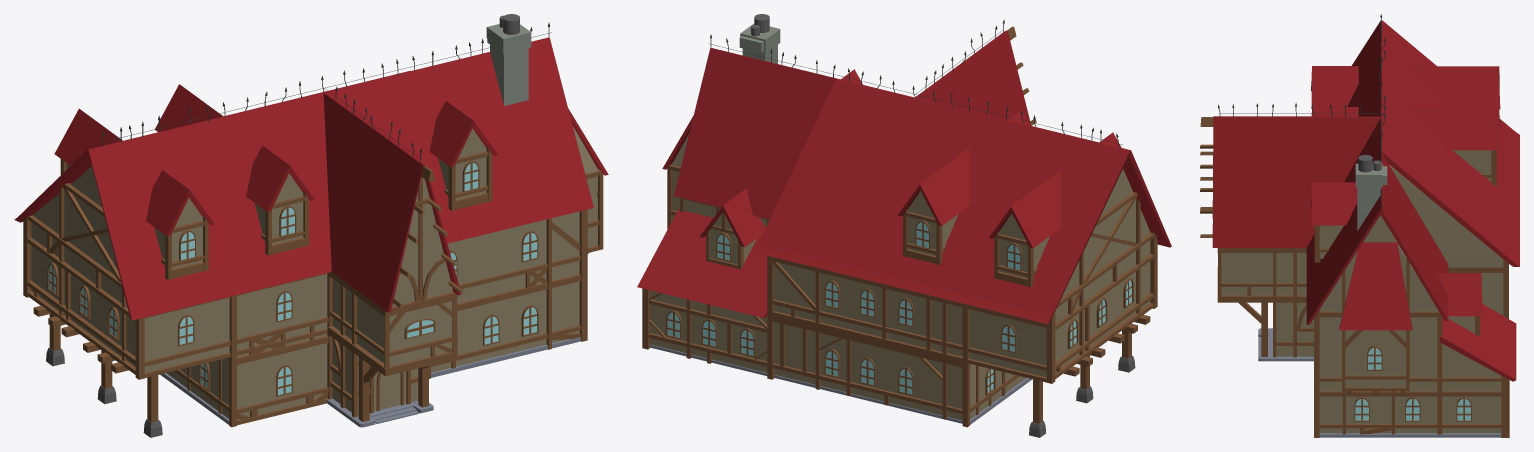
File: Building 3.fbx
The picture shows the model from 3 angles, left to right: view 1: azimuth 30°, elevation 25°; view 2: azimuth 150°, elevation 25°; view 3: azimuth 270°, elevation 25°; orthographic projection. The views are drawn at different scales.
Parts seen in each view (by area): view 1: Window, Building, Details, Windows, Pillars, Chimney; view 2: Window, Building, Details, Windows, Pillars, Chimney, Floor; view 3: Window, Building, Details, Chimney, Windows, Pillars.
Part boxes in pixels (x1=…): Window: x1=14, y1=37, x2=608, y2=320; Building: x1=31, y1=126, x2=598, y2=419; Details: x1=23, y1=22, x2=603, y2=427; Windows: x1=47, y1=160, x2=538, y2=396; Pillars: x1=46, y1=313, x2=428, y2=437; Chimney: x1=486, y1=14, x2=531, y2=105; Window: x1=637, y1=30, x2=1171, y2=324; Building: x1=650, y1=134, x2=1150, y2=420; Details: x1=642, y1=19, x2=1157, y2=427; Windows: x1=666, y1=220, x2=1133, y2=395; Pillars: x1=1029, y1=331, x2=1135, y2=437; Chimney: x1=739, y1=14, x2=780, y2=63; Floor: x1=650, y1=344, x2=962, y2=423; Window: x1=1212, y1=20, x2=1519, y2=381; Building: x1=1221, y1=150, x2=1503, y2=433; Details: x1=1200, y1=14, x2=1509, y2=437; Chimney: x1=1355, y1=154, x2=1387, y2=230; Windows: x1=1354, y1=345, x2=1471, y2=421; Pillars: x1=1261, y1=302, x2=1267, y2=356.
Size of the model in its own units: 38904 by 23361 by 25882.
